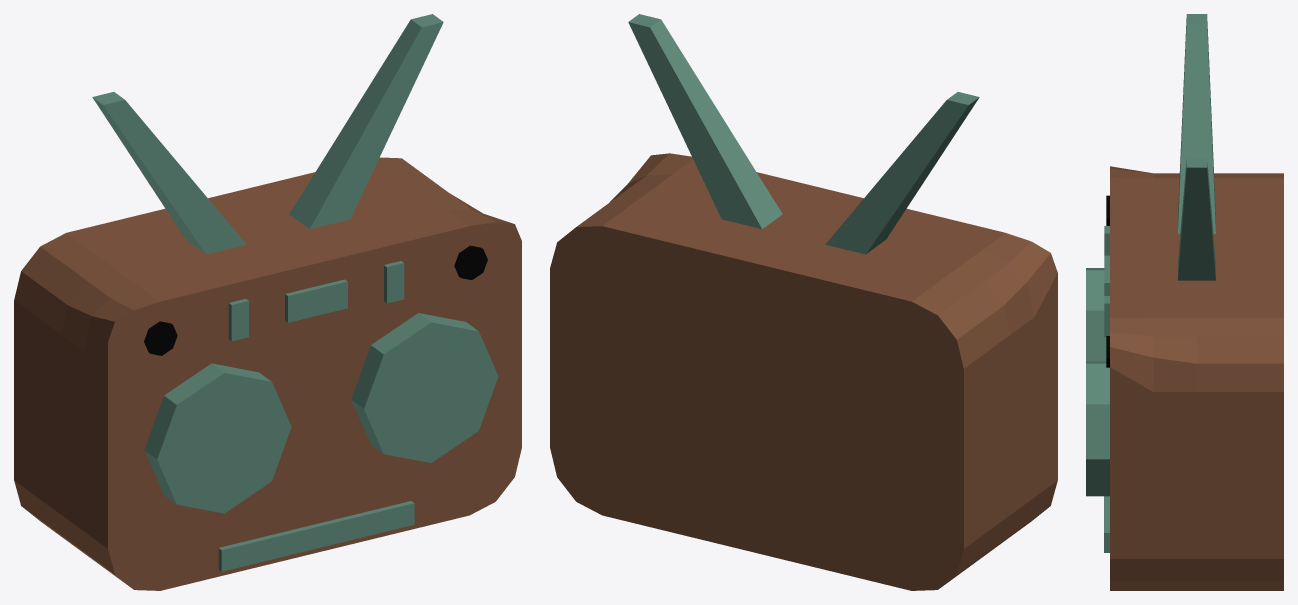
The model's file is Radio.fbx.
3 renders of one model, left to right at view 1: azimuth 30°, elevation 25°; view 2: azimuth 150°, elevation 25°; view 3: azimuth 270°, elevation 25°, orthographic. The views are drawn at different scales.
Visible parts, largest first — view 1: Radio; view 2: Radio; view 3: Radio.
Part boxes in pixels (x1=…): Radio: x1=14, y1=14, x2=521, y2=590; Radio: x1=550, y1=14, x2=1057, y2=590; Radio: x1=1086, y1=14, x2=1283, y2=590.
Bounding box in the file's own units: 52.83 × 56.03 × 23.64.
